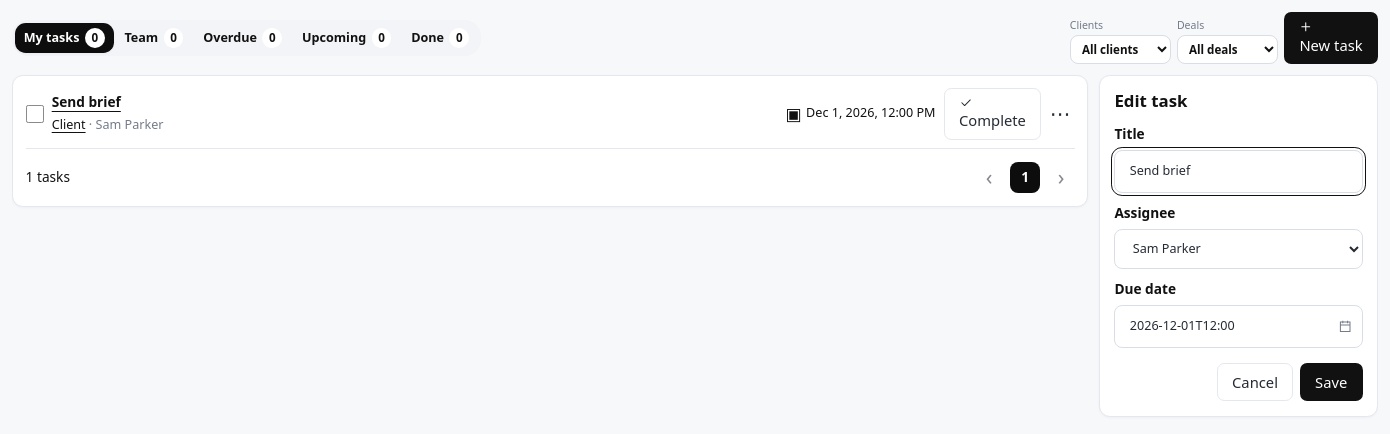
Scenario: shows team tasks and marks one complete after a server response
The width and height of the screenshot is (1390, 434).
Click the button "Team 0". click: (154, 38)
box: [115, 23, 192, 53]
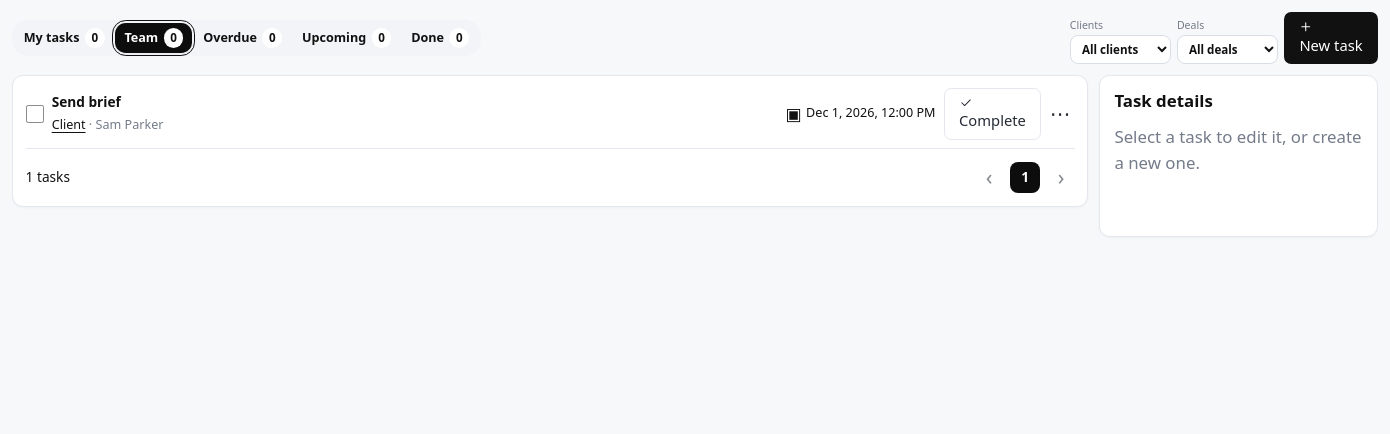
Expected: the button "Send brief" is shown, [52, 92, 121, 113]
Expected: the text "Client · Sam Parker" is shown, [52, 116, 164, 133]
Click the button "Complete". click: (992, 114)
box: [944, 88, 1041, 140]
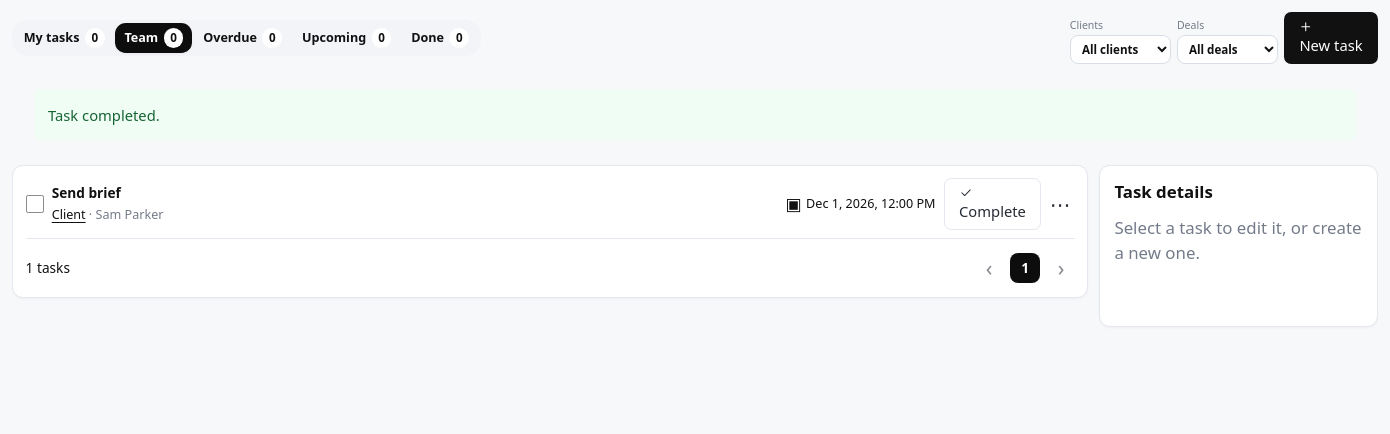
Now the text "Task completed." is shown, box [34, 89, 1356, 140]
